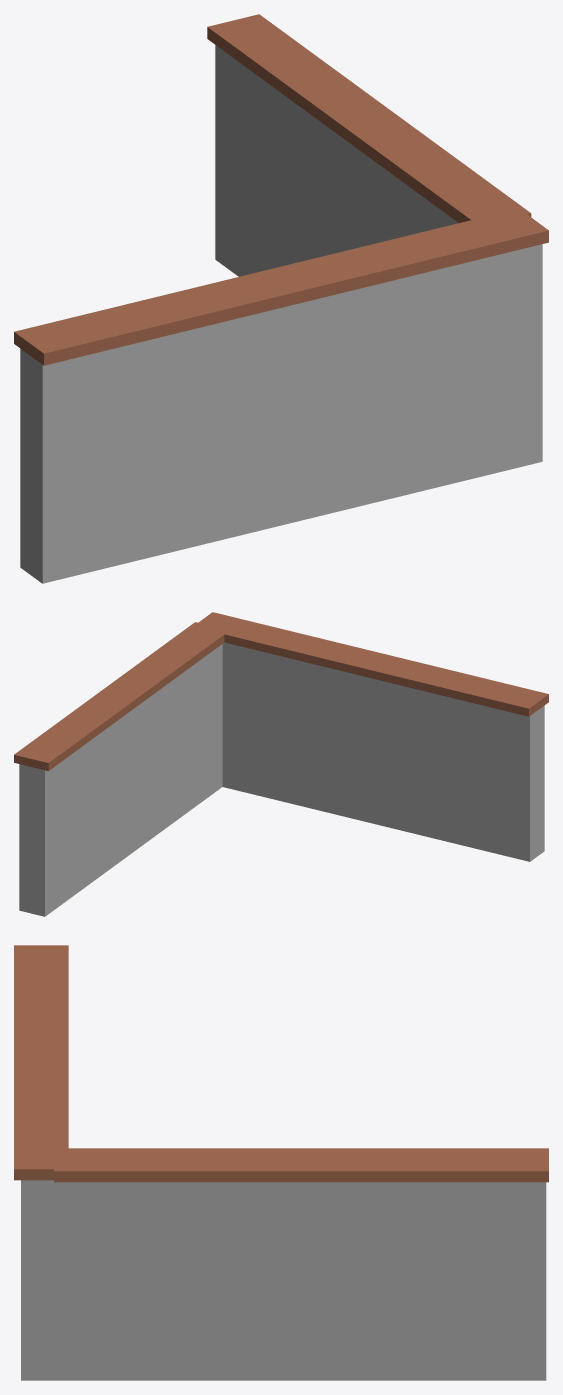
Rendered from SM_Tapia_v1_Esquina_LOD1.fbx.
The picture shows the model from 3 angles, top to bottom: view 1: azimuth 30°, elevation 25°; view 2: azimuth 150°, elevation 25°; view 3: azimuth 270°, elevation 25°; orthographic projection. The views are drawn at different scales.
Parts seen in each view (by area): view 1: SM_bloques.viveres_nules_v6_LOD1; view 2: SM_bloques.viveres_nules_v6_LOD1; view 3: SM_bloques.viveres_nules_v6_LOD1.
Part boxes in pixels (left/top/right/bottom): SM_bloques.viveres_nules_v6_LOD1: left=14, top=14, right=548, bottom=583; SM_bloques.viveres_nules_v6_LOD1: left=14, top=612, right=548, bottom=916; SM_bloques.viveres_nules_v6_LOD1: left=14, top=945, right=548, bottom=1380.
Bounding box in the file's own units: 5.3 × 2.32 × 5.3.
